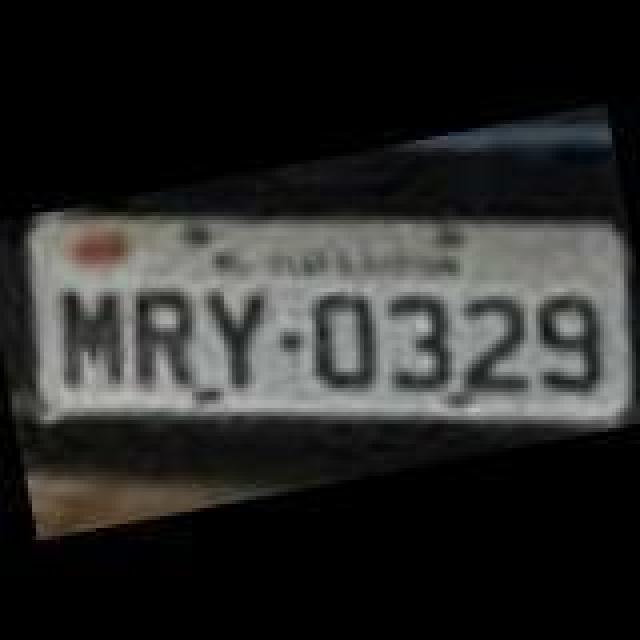2: (448, 284, 544, 404)
3: (376, 286, 464, 402)
9: (526, 284, 610, 404)
M: (42, 270, 134, 394)
O: (300, 288, 388, 400)
R: (120, 280, 200, 392)
Y: (194, 274, 286, 398)
